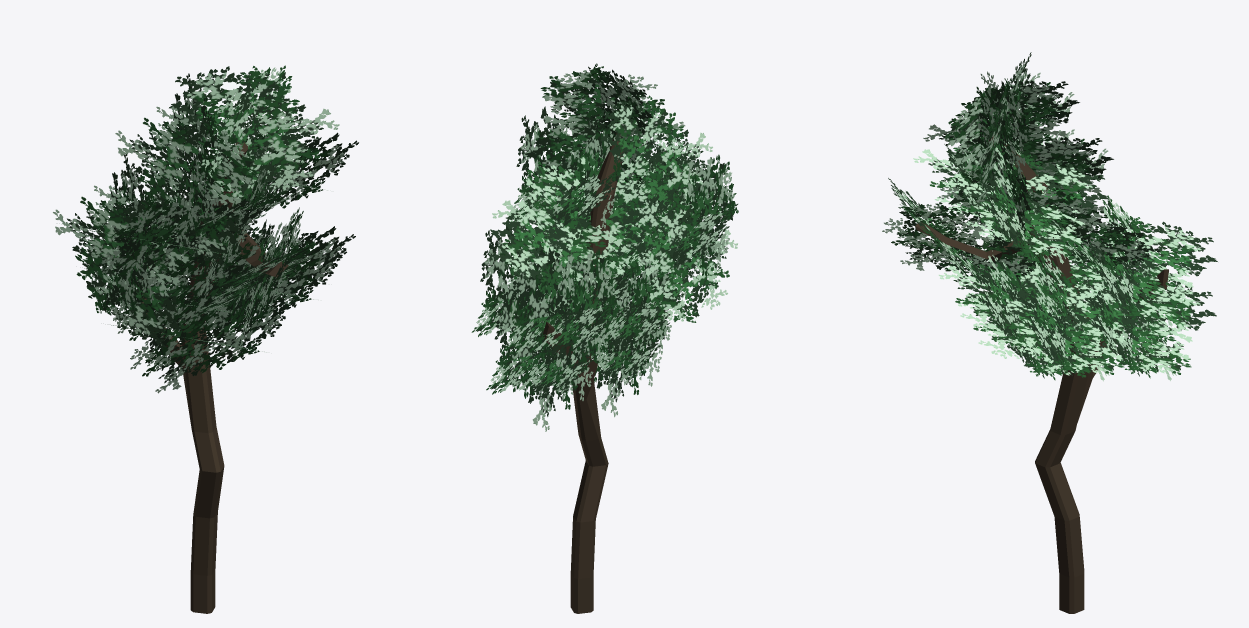
Rendered from Tree.fbx.
3 views of the same model, side by side, from view 1: azimuth 30°, elevation 25°; view 2: azimuth 150°, elevation 25°; view 3: azimuth 270°, elevation 25° (orthographic). The views are drawn at different scales.
Parts seen in each view (by area): view 1: Tree; view 2: Tree; view 3: Tree.
Boxes of the visible parts, box(x1,y1,x2,y2) form: Tree: box(53, 65, 358, 613); Tree: box(471, 63, 738, 613); Tree: box(882, 52, 1217, 613).
Size of the model in its own units: 412 by 702 by 463.
